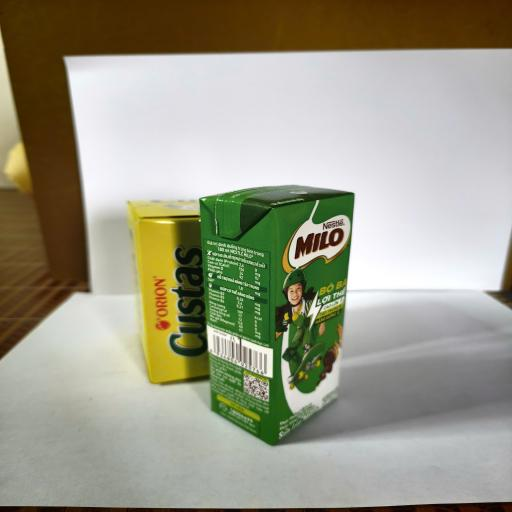custas: (127, 200, 210, 384)
milo: (198, 184, 354, 446)
